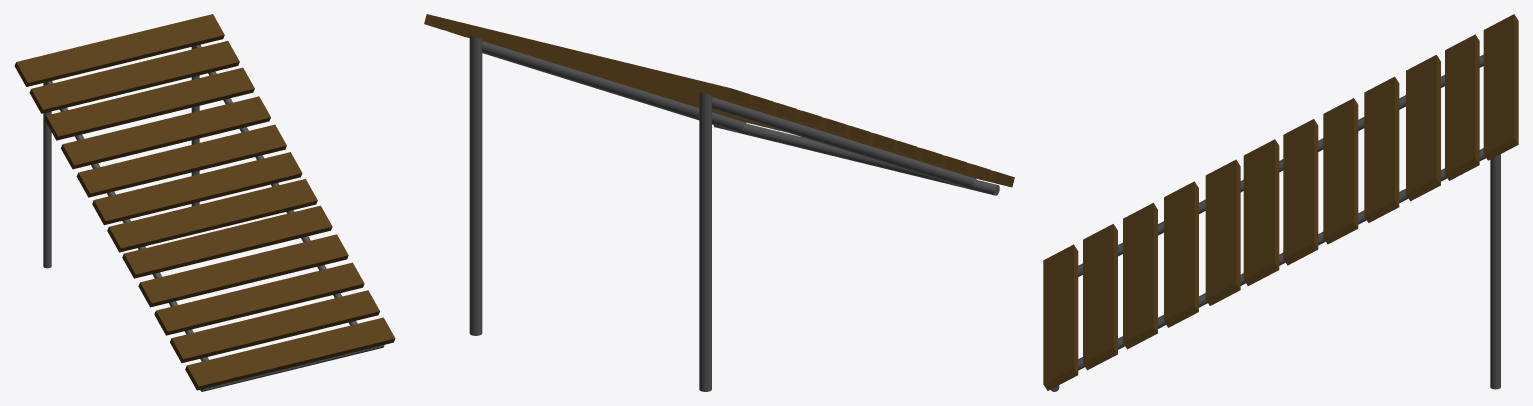
The model's file is rampa darebna.fbx.
3 views of the same model, side by side, from view 1: azimuth 30°, elevation 25°; view 2: azimuth 150°, elevation 25°; view 3: azimuth 270°, elevation 25° (orthographic). The views are drawn at different scales.
Visible parts, largest first — view 1: Plane.005, Plane.004, Valec.026; view 2: Valec.026, Plane.004, Plane.005; view 3: Plane.005, Plane.004, Valec.026.
Boxes of the visible parts, <box> form: Plane.005: <box>93,152,395,390</box>; Plane.004: <box>14,14,317,252</box>; Valec.026: <box>43,44,384,391</box>; Valec.026: <box>469,36,999,391</box>; Plane.004: <box>424,14,894,149</box>; Plane.005: <box>568,67,1014,187</box>; Plane.005: <box>1043,119,1318,390</box>; Plane.004: <box>1243,14,1518,285</box>; Valec.026: <box>1051,54,1500,391</box>.
Bounding box in the file's own units: 286 × 285 × 463.
